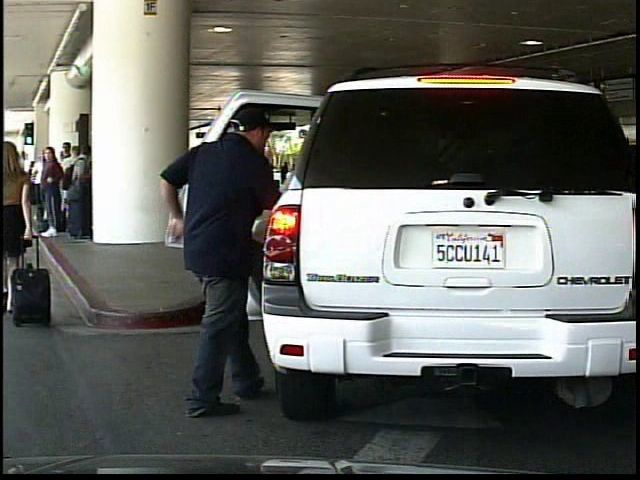person: (164, 95, 277, 442), (2, 137, 39, 332)
